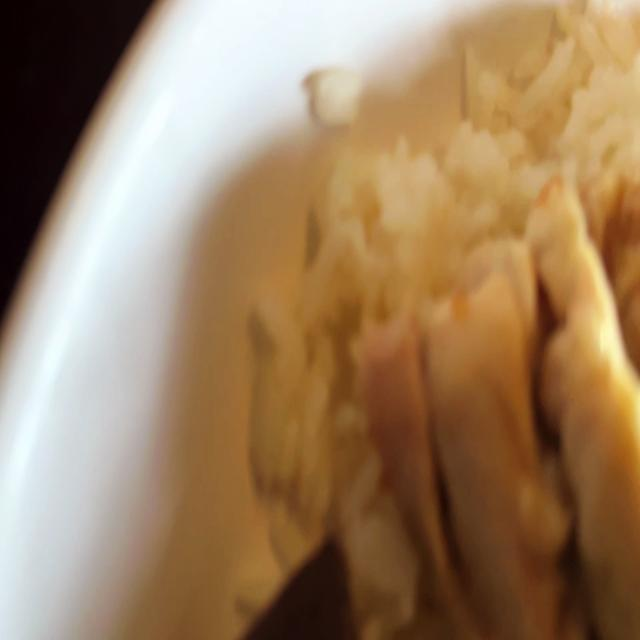boiled_chicken: (377, 186, 640, 640)
boiled_chicken_blood_jelly: (239, 532, 351, 640)
chicken_rice: (193, 12, 640, 640)
